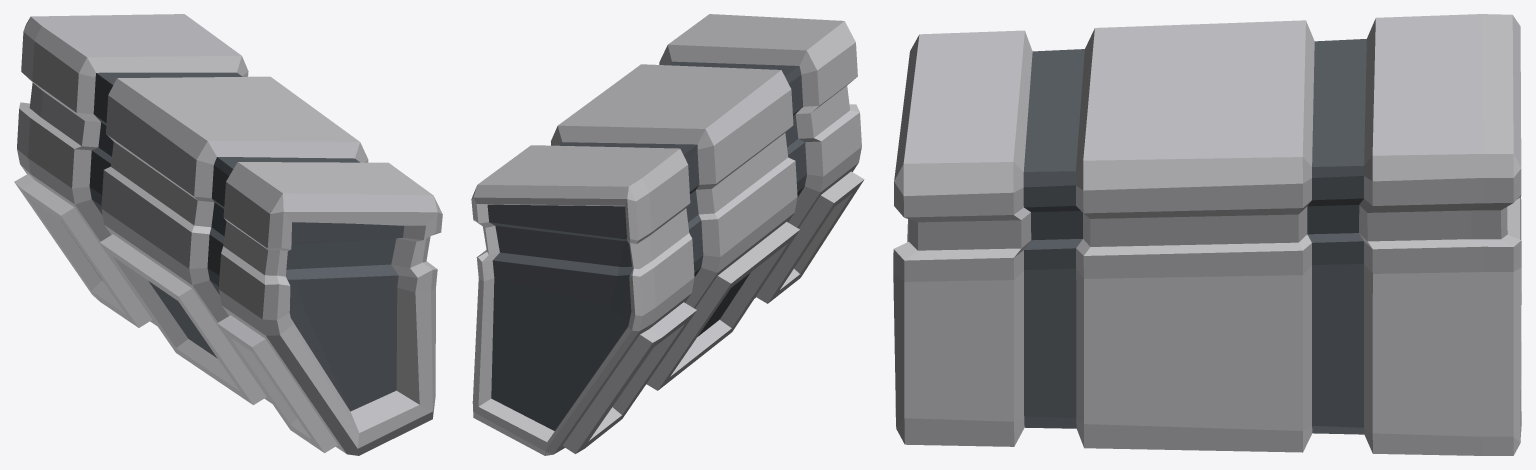
File: Fighter_10_Engine_Right.fbx
3 views of the same model, side by side, from view 1: azimuth 30°, elevation 25°; view 2: azimuth 150°, elevation 25°; view 3: azimuth 270°, elevation 25° (orthographic). The views are drawn at different scales.
Parts seen in each view (by area): view 1: Fighter_10_Engine_Right; view 2: Fighter_10_Engine_Right; view 3: Fighter_10_Engine_Right.
Part boxes in pixels (x1,y1,x2,y2): Fighter_10_Engine_Right: (14,14,442,455); Fighter_10_Engine_Right: (471,14,864,455); Fighter_10_Engine_Right: (893,14,1521,455).
Size of the model in its own units: 403 by 595 by 912.
Materials: 2 (2 with a texture image).
